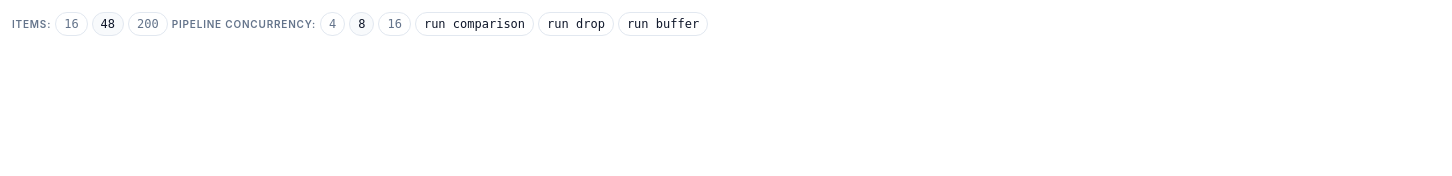
Test: ReactiveCompareDemo › renders the degraded panel when the server is down
The image size is (1452, 176).
Click the button with test id "reactive-run-compare".
click(474, 24)  # box x1=415 y1=12 x2=534 y2=36
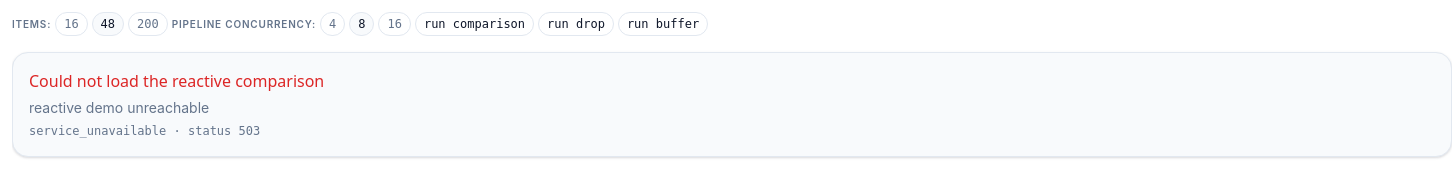
Now the message with test id "error-panel" shows "reactive demo unreachable", box x1=29 y1=99 x2=209 y2=116
